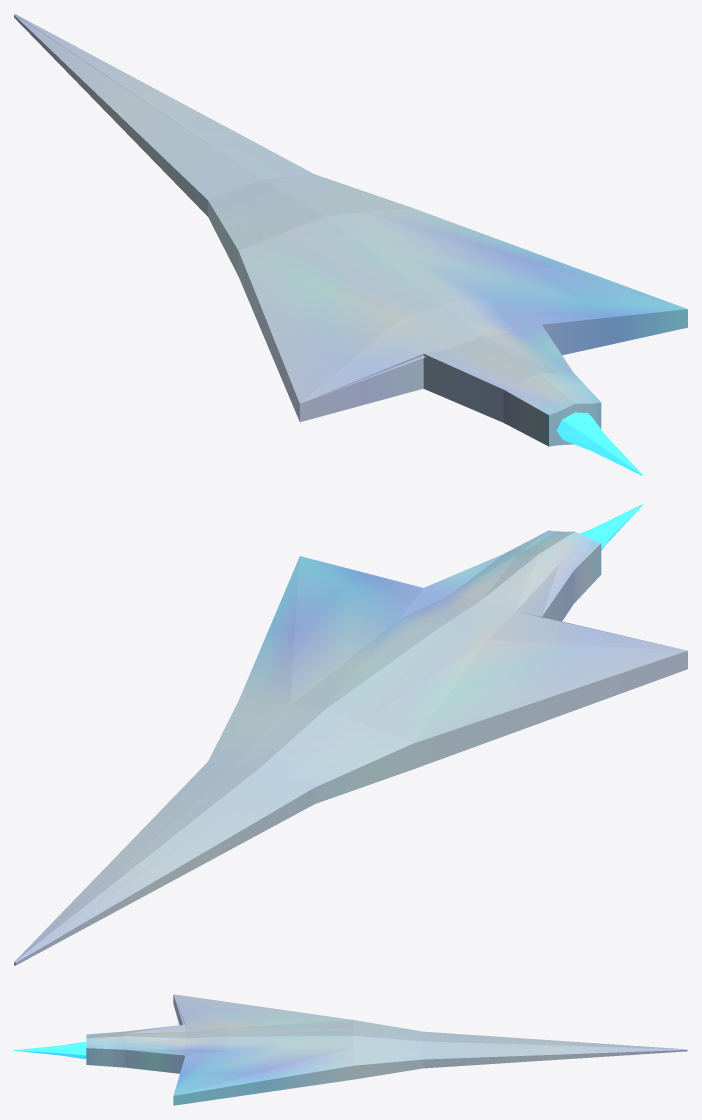
File: 01_korvette.glb
3 views of the same model, one above another, from view 1: azimuth 30°, elevation 25°; view 2: azimuth 150°, elevation 25°; view 3: azimuth 270°, elevation 25° (orthographic). The views are drawn at different scales.
Visible parts, largest first — view 1: Hull, FX_drive; view 2: Hull, FX_drive; view 3: Hull, FX_drive.
Boxes of the visible parts, left/top/right/bottom form: Hull: left=14, top=14, right=687, bottom=446; FX_drive: left=556, top=412, right=642, bottom=475; Hull: left=14, top=530, right=687, bottom=965; FX_drive: left=580, top=504, right=642, bottom=550; Hull: left=86, top=994, right=687, bottom=1105; FX_drive: left=14, top=1042, right=86, bottom=1058.
Bounding box in the file's own units: 2.42 × 0.2979 × 6.79.
